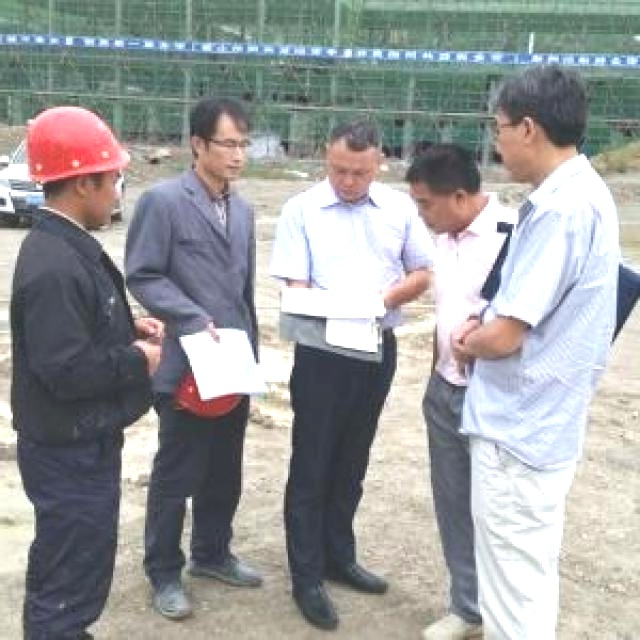Con_Casco: (27, 100, 129, 217)
Sin_Casco_Mascarrilla: (191, 99, 259, 180), (325, 125, 384, 203)
